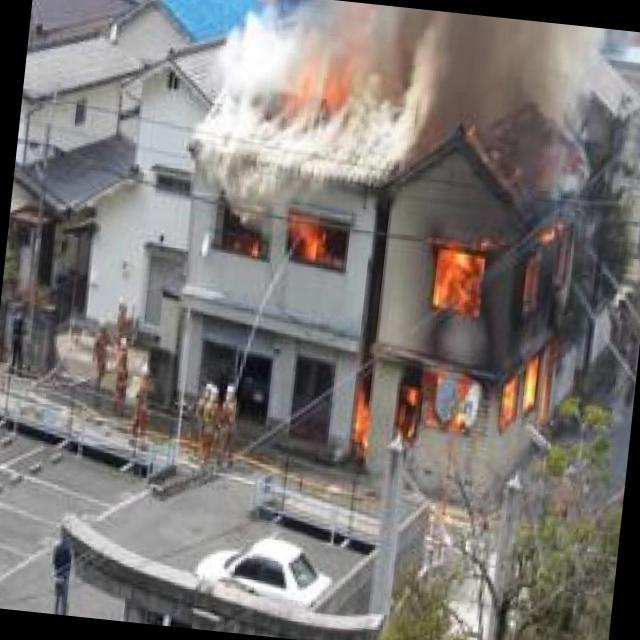Fire: (341, 187, 595, 481), (264, 9, 380, 136), (211, 194, 351, 278)
